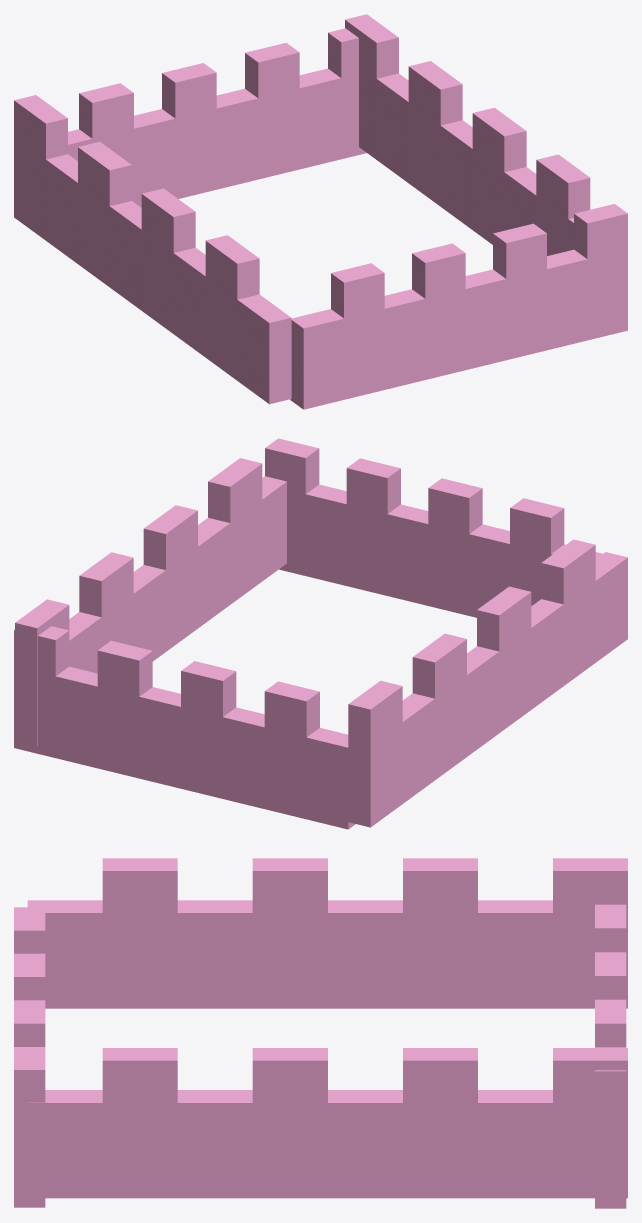
The model's file is castle walls 12.fbx.
3 views of the same model, one above another, from view 1: azimuth 30°, elevation 25°; view 2: azimuth 150°, elevation 25°; view 3: azimuth 270°, elevation 25° (orthographic). The views are drawn at different scales.
Visible parts, largest first — view 1: Cube.125; view 2: Cube.125; view 3: Cube.125.
Part boxes in pixels (x1,y1,x2,y2): Cube.125: (14, 14, 627, 409); Cube.125: (14, 438, 627, 829); Cube.125: (14, 858, 627, 1208).
Bounding box in the file's own units: 481 × 162 × 614.
